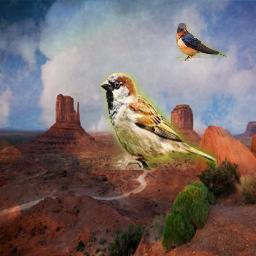Sparrow: (100, 72, 217, 170)
Swallow: (176, 23, 227, 61)
